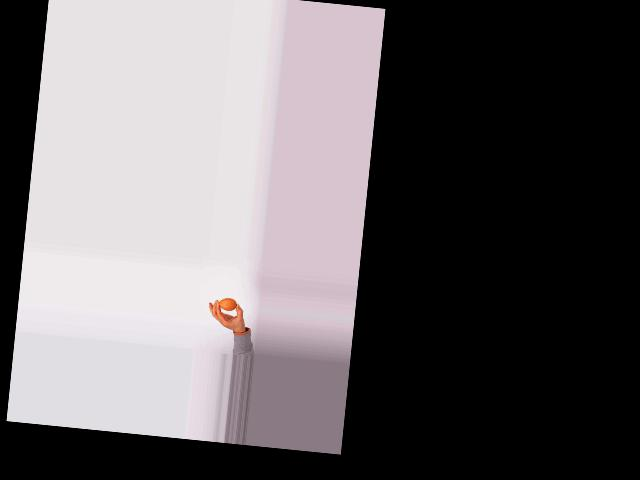egg: (218, 296, 237, 310)
